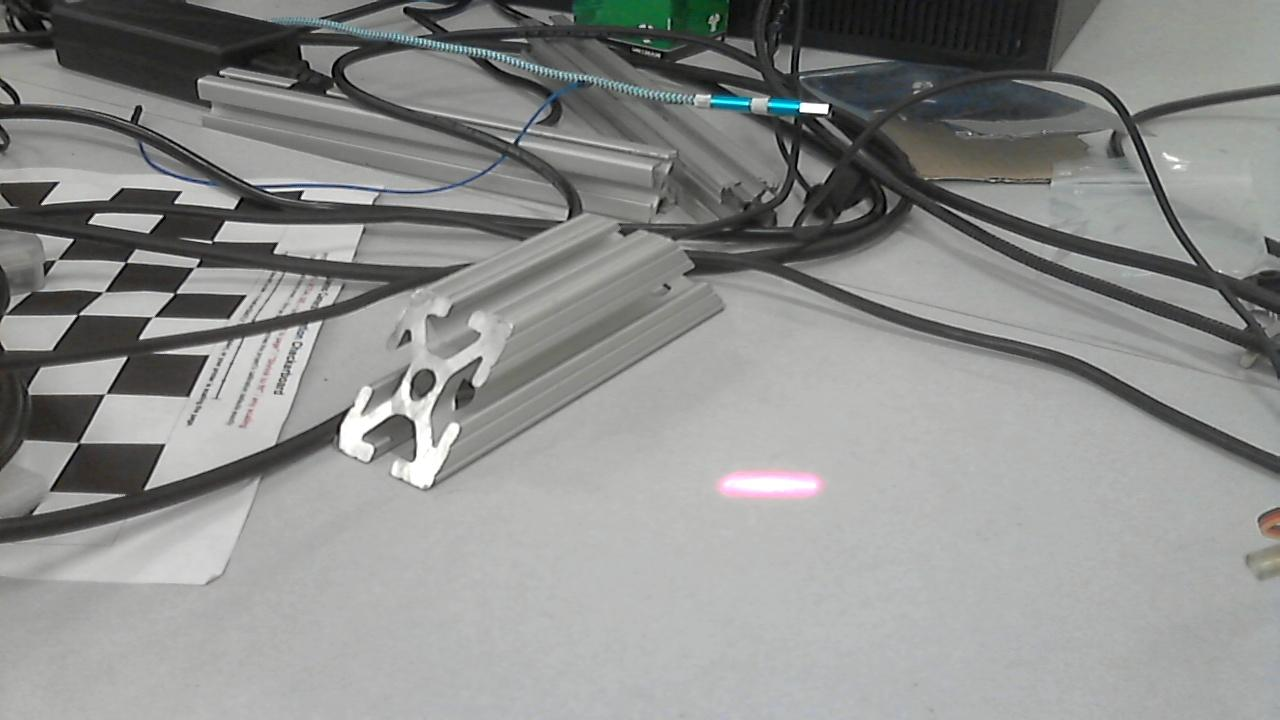Object tabletop - Material composite plastic - Pdfname jhjasdfwat: (710, 466, 839, 503)
